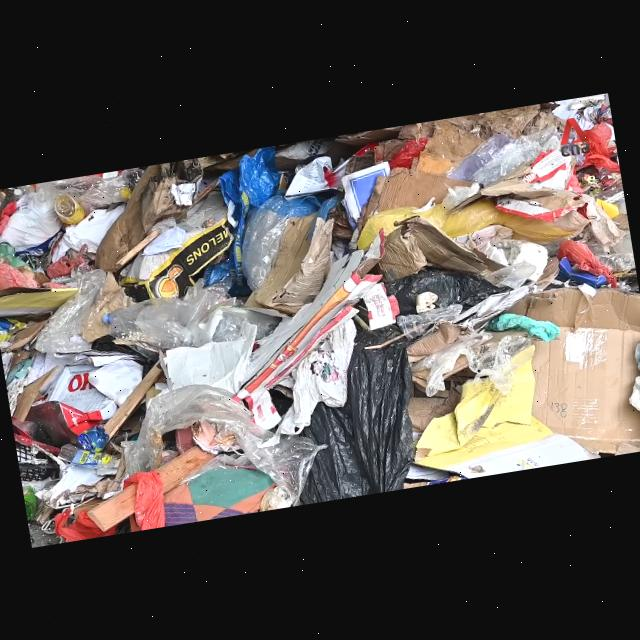trash: (100, 290, 185, 332), (51, 189, 88, 229), (71, 424, 113, 456), (22, 482, 42, 523)
